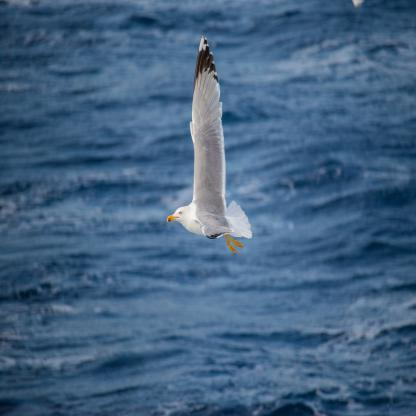bird: (166, 35, 253, 255)
